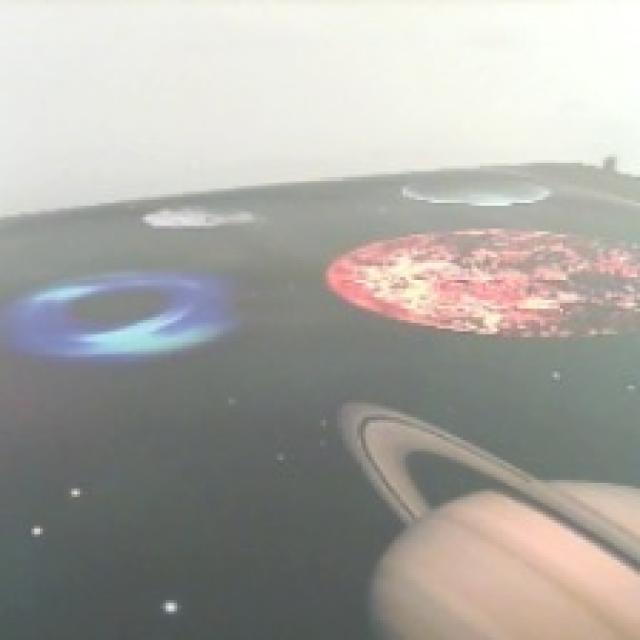Asteroid: (142, 199, 258, 230)
Black Hole: (3, 268, 241, 365)
Earth: (402, 172, 551, 206)
Saturn: (336, 403, 640, 640)
Sun: (323, 226, 640, 340)
